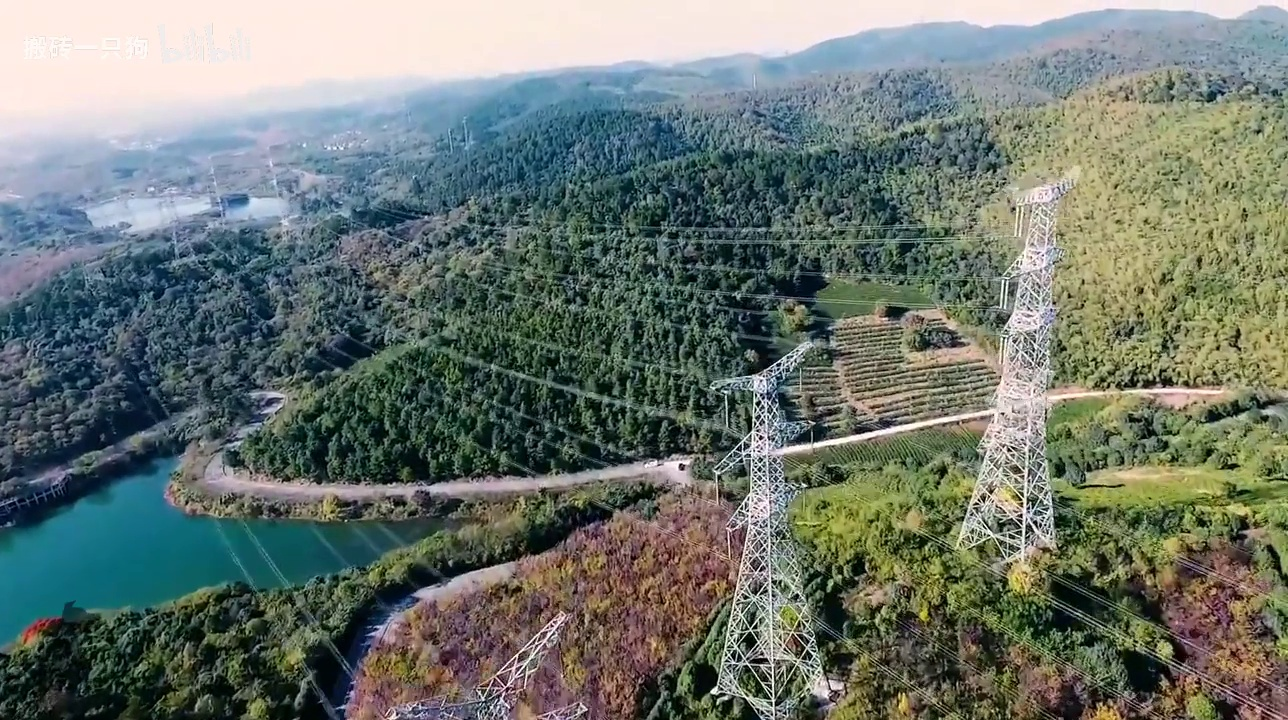tower_body: (677, 332, 852, 720), (964, 159, 1085, 570)
tower_foot: (710, 609, 841, 720), (955, 494, 1074, 565)
tower_head: (691, 342, 822, 395), (987, 166, 1095, 225)
